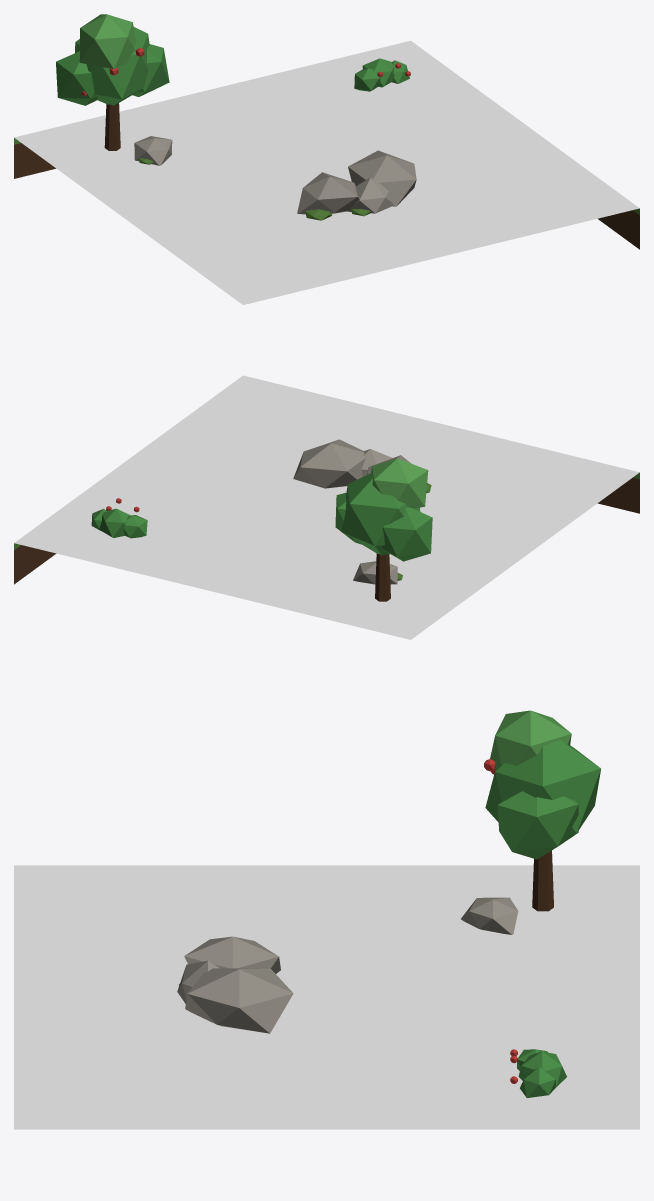
Rendered from rRock.glb.
3 renders of one model, top to bottom at view 1: azimuth 30°, elevation 25°; view 2: azimuth 150°, elevation 25°; view 3: azimuth 270°, elevation 25°, orthographic. The views are drawn at different scales.
Parts seen in each view (by area): view 1: rRock; view 2: rRock; view 3: rRock.
Part boxes in pixels (x1,y1,x2,y2): rRock: [14, 14, 639, 304]; rRock: [14, 375, 639, 639]; rRock: [14, 710, 639, 1129].
Bounding box in the file's own units: 2 × 0.8709 × 2.
